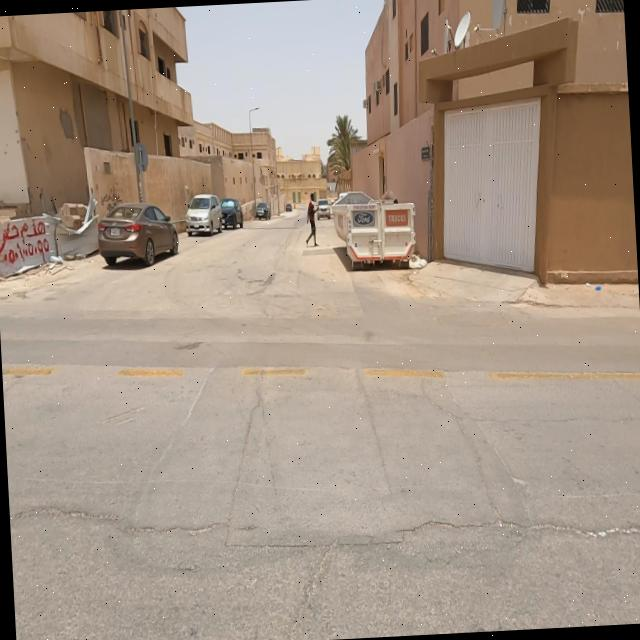Graffiti: (1, 220, 50, 267), (101, 186, 124, 208)
